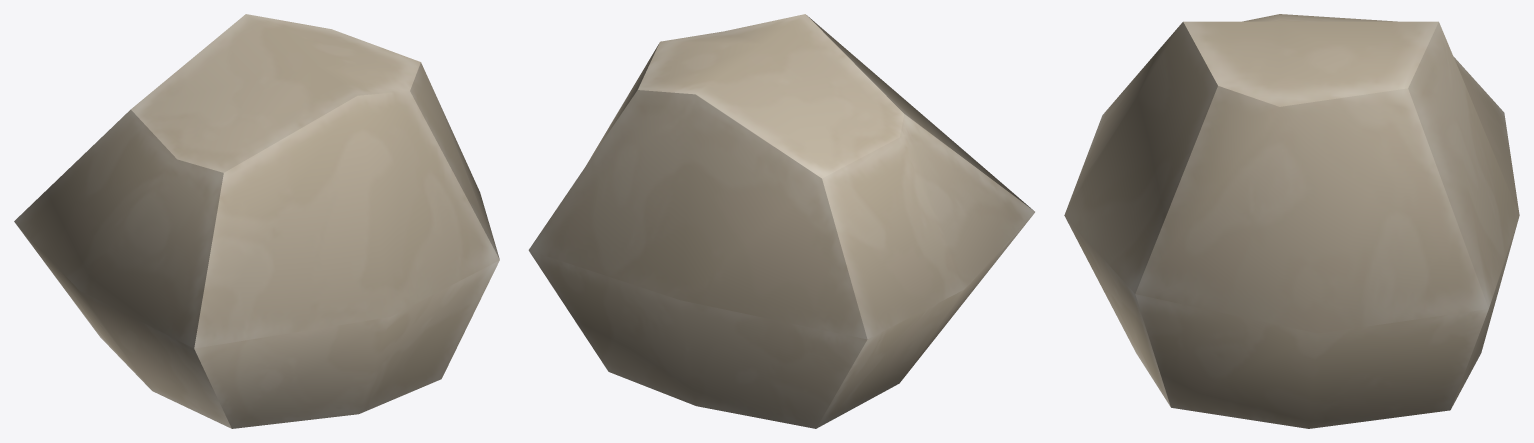
File: SmallStone2.FBX
3 views of the same model, side by side, from view 1: azimuth 30°, elevation 25°; view 2: azimuth 150°, elevation 25°; view 3: azimuth 270°, elevation 25° (orthographic). The views are drawn at different scales.
Parts seen in each view (by area): view 1: SmallStone2; view 2: SmallStone2; view 3: SmallStone2.
Boxes of the visible parts, x1,y1,x2,y2 form: SmallStone2: [14, 14, 499, 428]; SmallStone2: [528, 14, 1034, 428]; SmallStone2: [1064, 14, 1519, 428].
Size of the model in its own units: 24.69 by 17.57 by 21.19.
